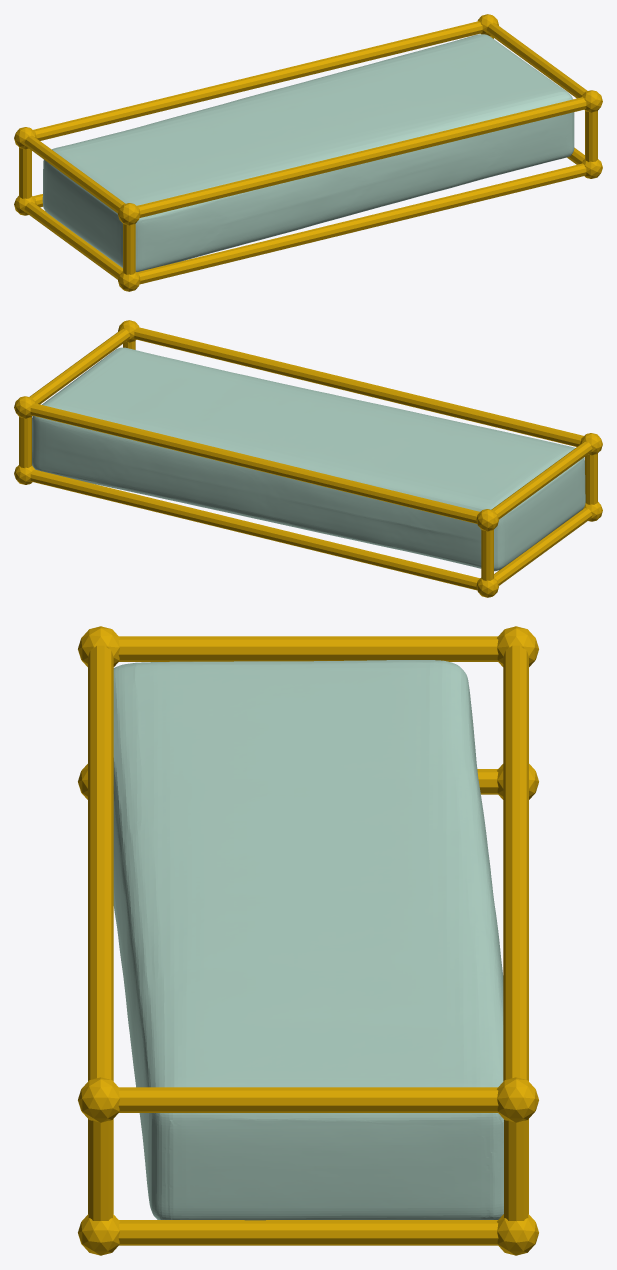
Rendered from sam3d_with_obb_viewer.glb.
3 renders of one model, top to bottom at view 1: azimuth 30°, elevation 25°; view 2: azimuth 150°, elevation 25°; view 3: azimuth 270°, elevation 25°, orthographic. The views are drawn at different scales.
Parts seen in each view (by area): view 1: world; view 2: world; view 3: world.
Boxes of the visible parts, bbox=[...] form: world: bbox=[14, 14, 602, 291]; world: bbox=[14, 320, 602, 597]; world: bbox=[78, 626, 538, 1255].
Bounding box in the file's own units: 0.1009 × 0.0175 × 0.0418.
